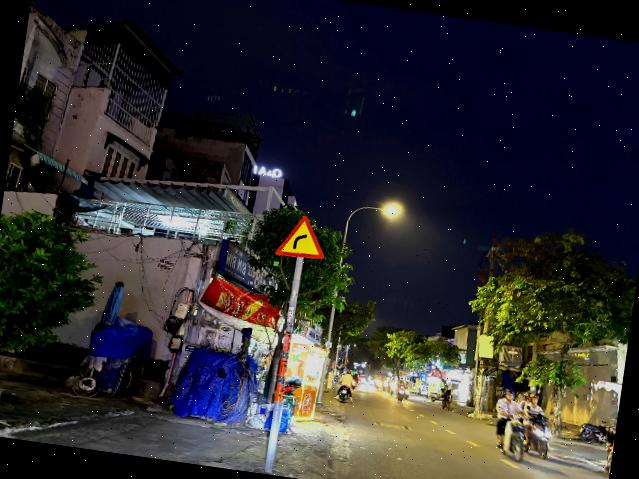cho-ngoat-nguy-hiem-ben-trai: (274, 211, 330, 262)
